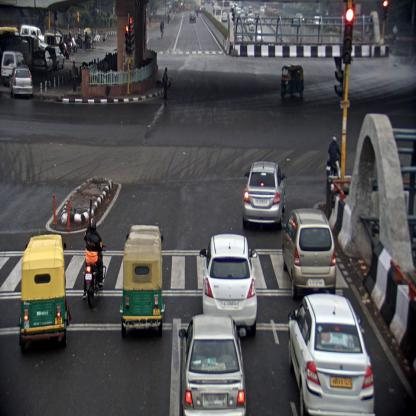car: (288, 294, 376, 416), (179, 315, 247, 415), (200, 233, 260, 338), (282, 209, 335, 298), (243, 161, 287, 230), (2, 52, 27, 84), (9, 66, 32, 100)
motorcycle: (83, 217, 104, 308), (326, 132, 344, 184)
